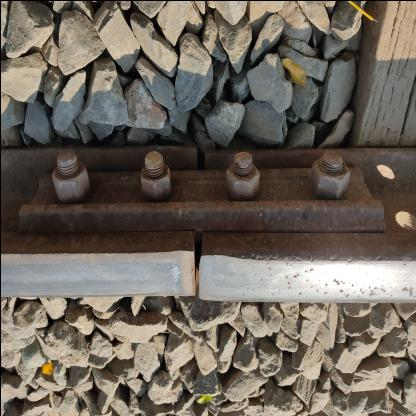Non Defective 3: (2, 126, 390, 241)
